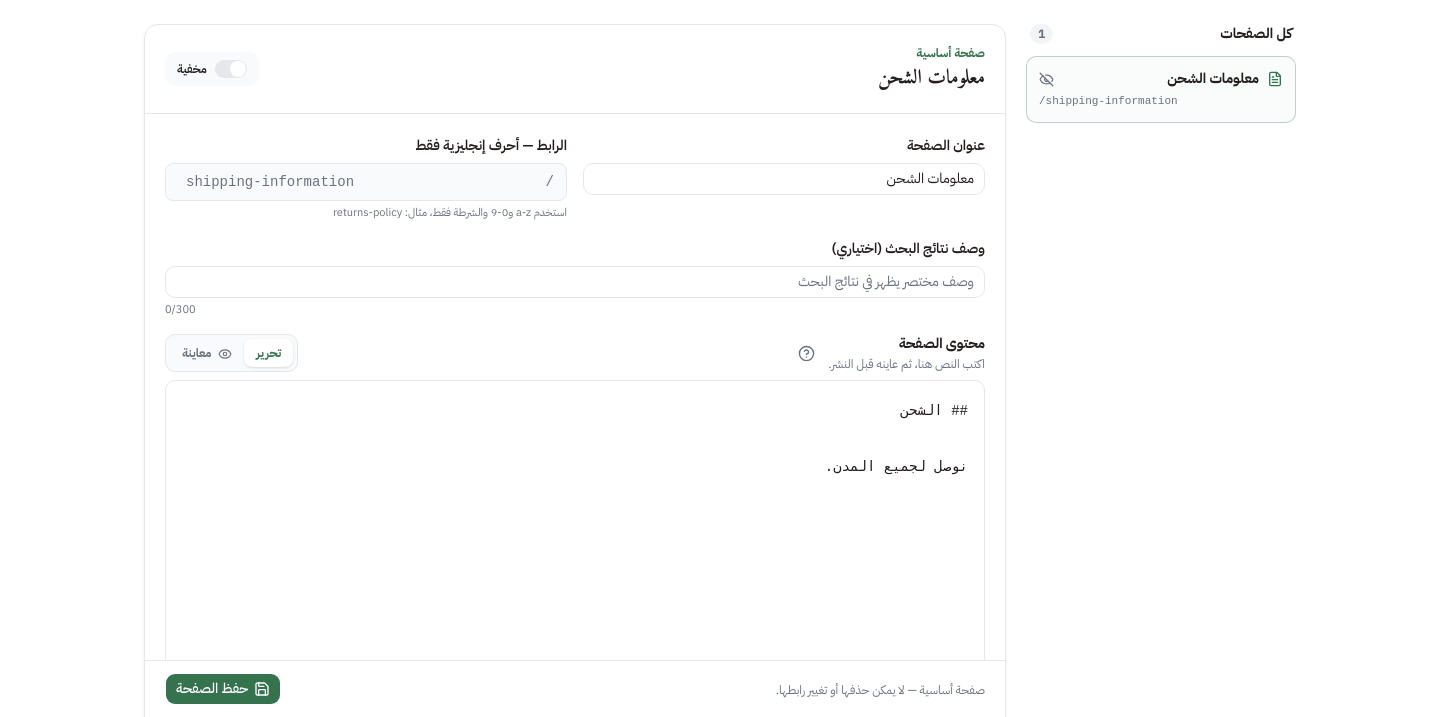
Test: MarkdownPreview › switches between the writing editor and a full-width preview
The image size is (1440, 717).
Check: the button named "مساعدة تنسيق المحتوى" is shown, box [792, 339, 820, 367]
Click the button "معاينة": (207, 353) [170, 339, 244, 367]
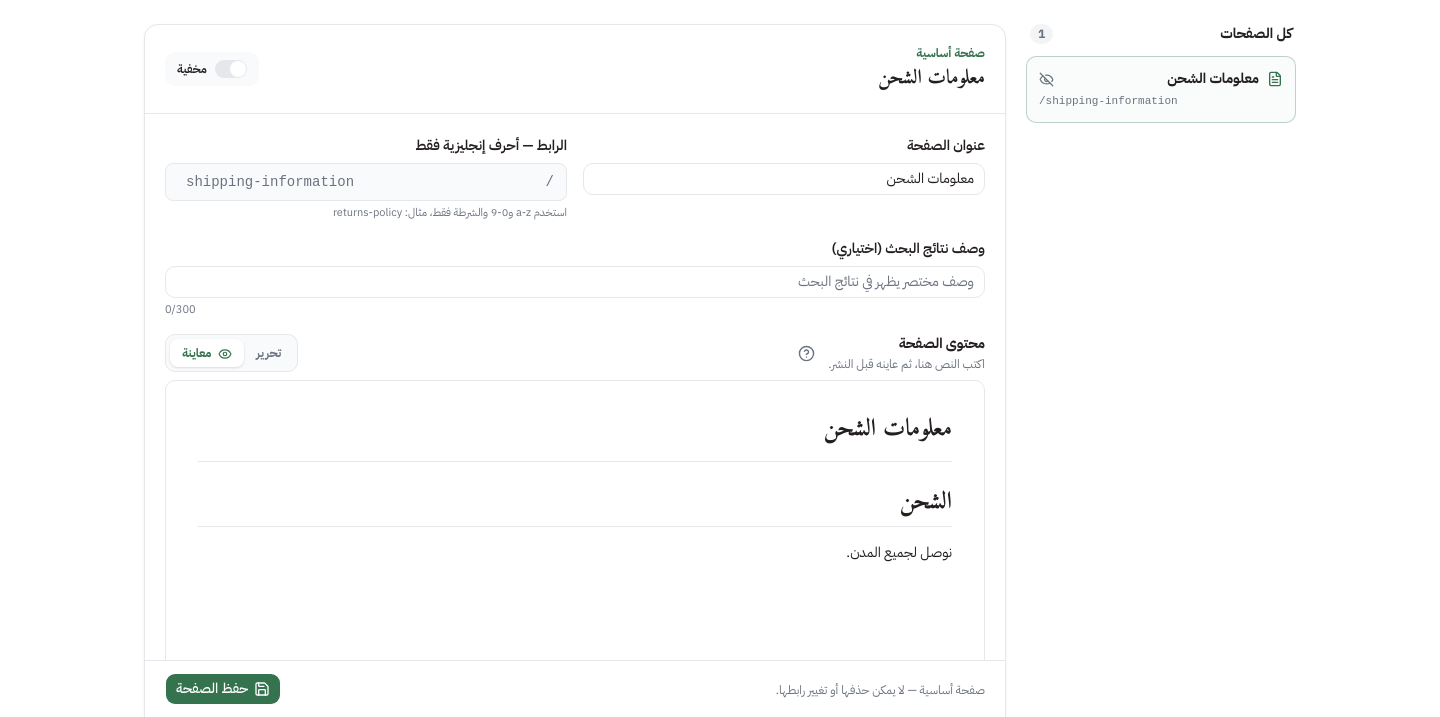
Check: the heading "الشحن" is shown, box [198, 486, 952, 527]
Click the button "تحرير": (269, 353) [244, 339, 293, 367]
(page scrolled)
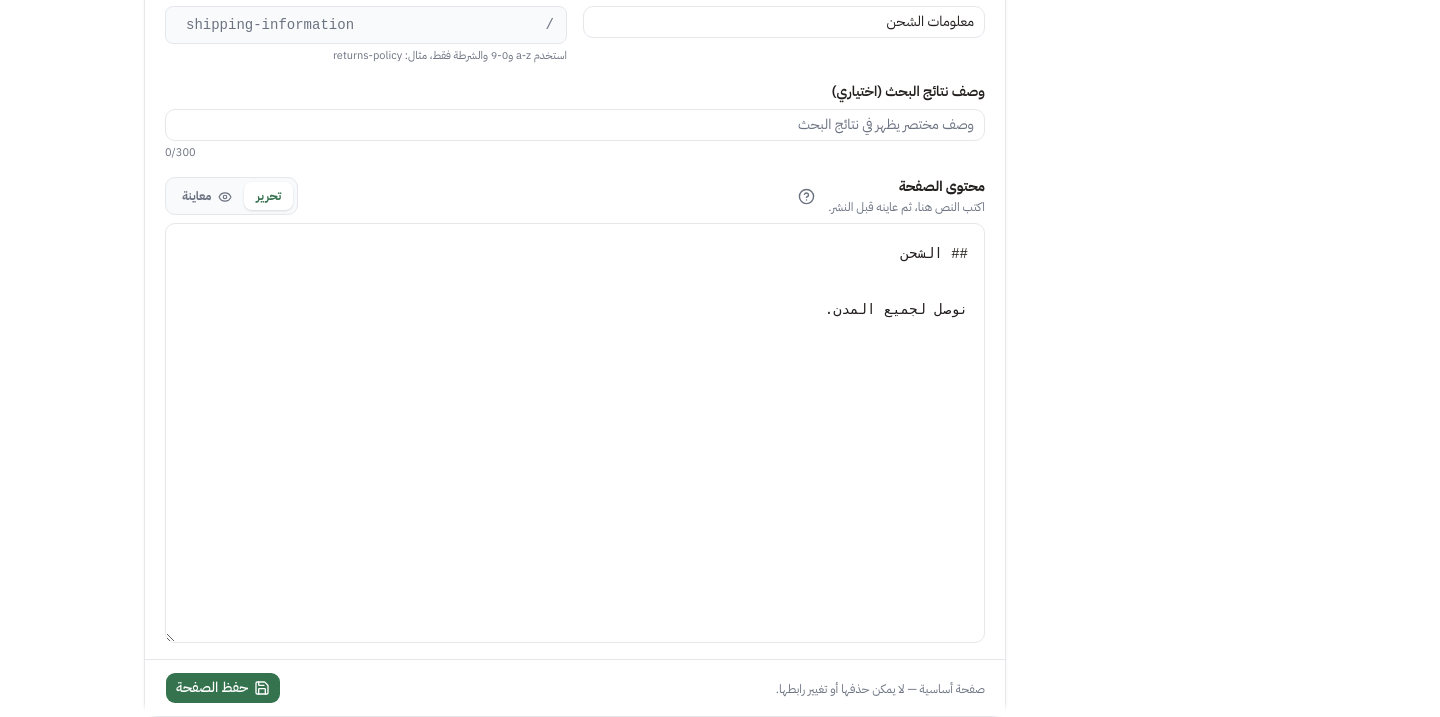
Check: the text box named "محرر محتوى الصفحة" is shown, box [165, 223, 985, 643]
